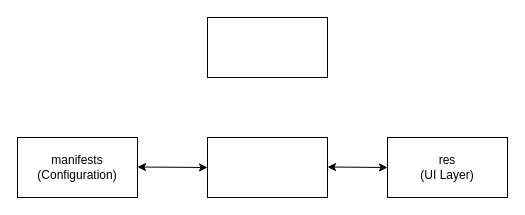
Image size: 525x215. Some labels were removed from this diagram. Each missing label, with the centre of its shape:
"Java (Business Layer)" belongs at point 267,167.
"Night Exchange" belongs at point 267,47.
